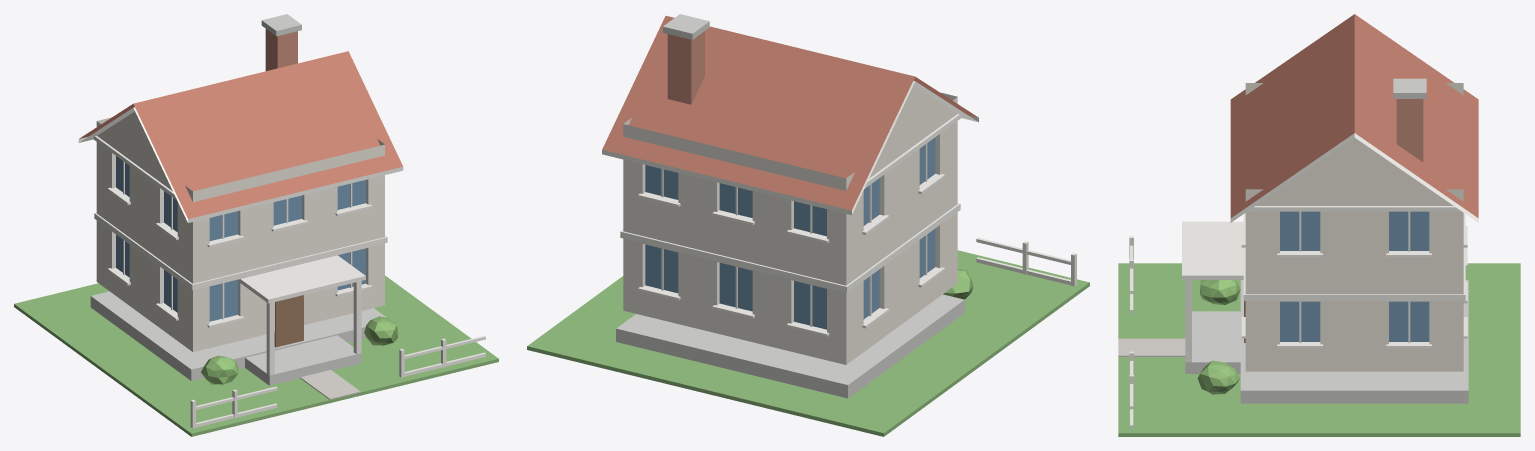
3 renders of one model, left to right at view 1: azimuth 30°, elevation 25°; view 2: azimuth 150°, elevation 25°; view 3: azimuth 270°, elevation 25°, orthographic. The views are drawn at different scales.
Visible parts, largest first — view 1: r_1_1_b; view 2: r_1_1_b; view 3: r_1_1_b.
Part boxes in pixels (bbox=[...]): r_1_1_b: bbox=[14, 14, 498, 436]; r_1_1_b: bbox=[527, 14, 1089, 436]; r_1_1_b: bbox=[1118, 14, 1520, 436].
Size of the model in its own units: 12 by 9.95 by 12.
